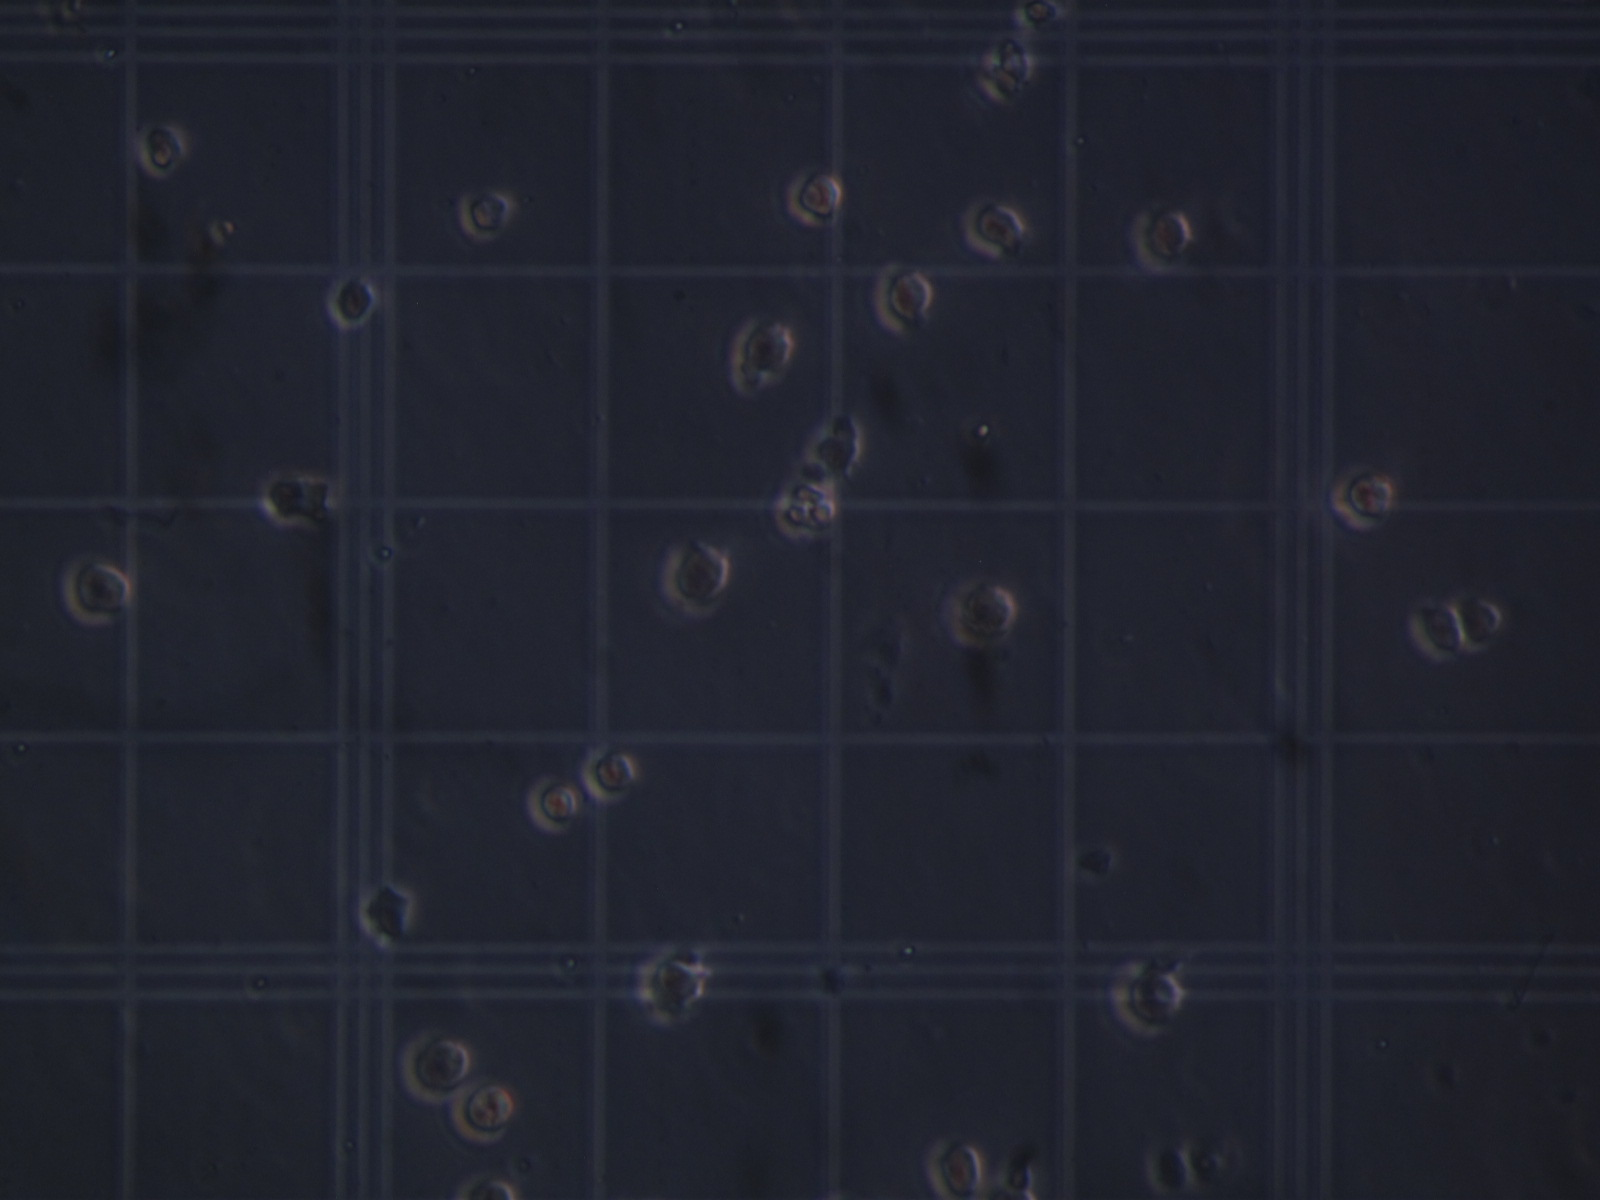hemo: (1107, 955, 1187, 1041), (658, 539, 733, 621), (634, 945, 706, 1029), (944, 572, 1018, 650), (401, 1034, 472, 1102), (449, 1076, 515, 1148), (1330, 463, 1397, 534), (258, 470, 339, 529), (64, 558, 130, 630), (357, 876, 416, 953), (1128, 205, 1193, 275), (874, 262, 934, 337), (961, 198, 1032, 260), (777, 480, 842, 547), (923, 1136, 988, 1200), (527, 771, 583, 834), (1409, 597, 1465, 661), (580, 744, 636, 805), (786, 166, 842, 229), (729, 321, 792, 374), (324, 271, 378, 332), (1458, 594, 1511, 655), (460, 187, 518, 242), (135, 121, 186, 179), (806, 424, 860, 476), (1143, 1145, 1196, 1197), (986, 35, 1033, 86), (998, 1158, 1048, 1200), (456, 1174, 517, 1200), (1013, 1, 1062, 32)
